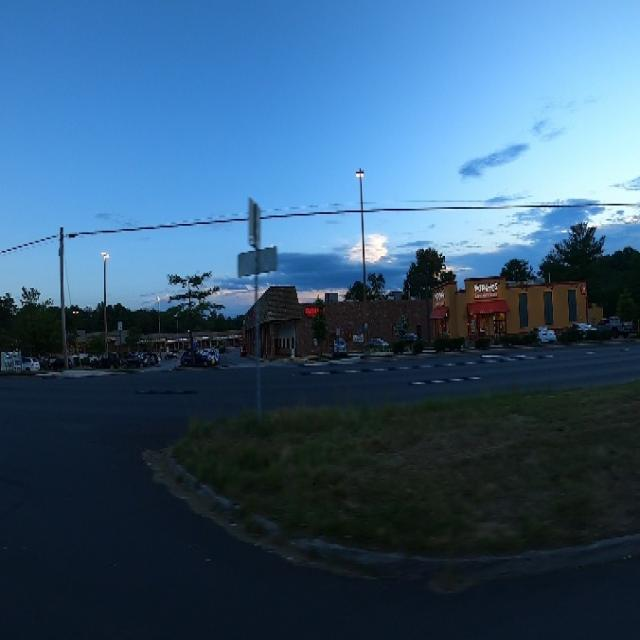cars: (596, 309, 632, 347), (180, 342, 216, 373), (563, 318, 597, 345), (395, 328, 420, 356), (366, 328, 388, 359), (529, 323, 560, 345), (18, 350, 41, 377), (118, 348, 147, 368), (329, 332, 348, 358)
